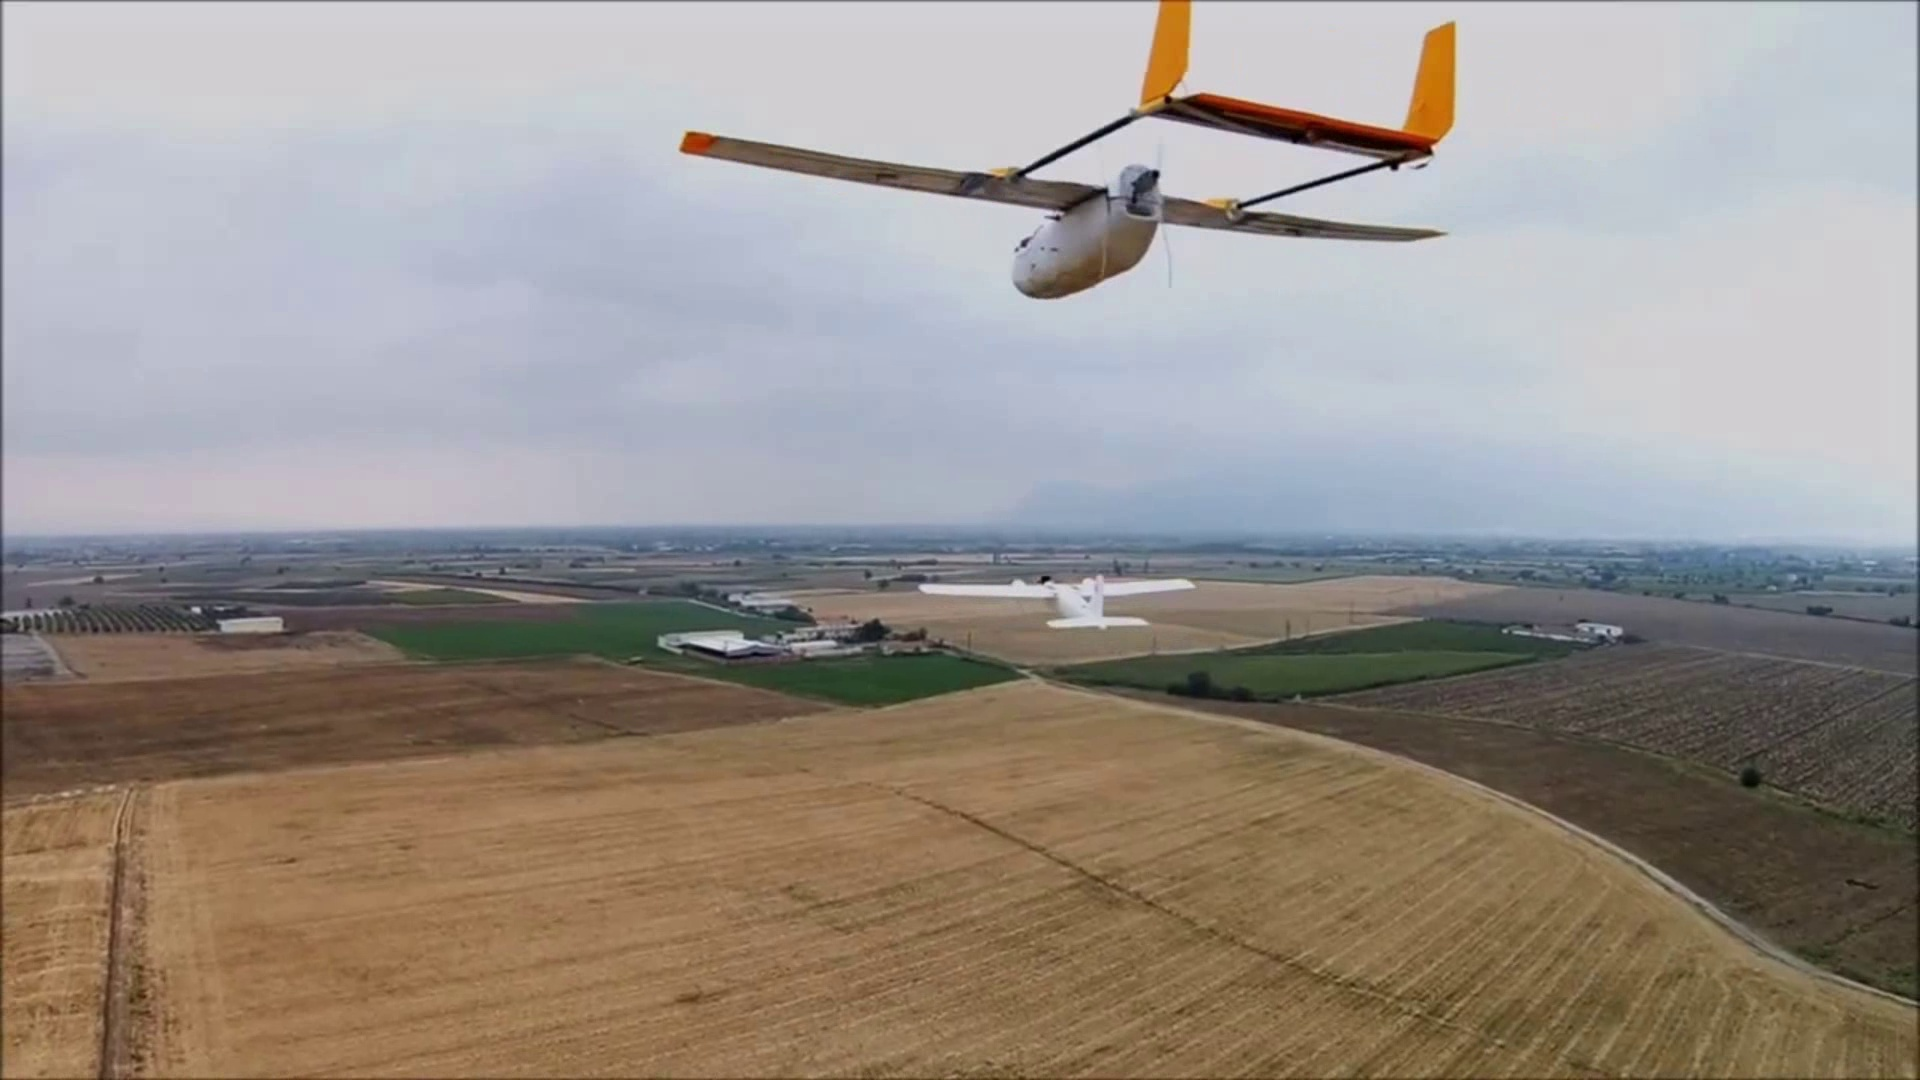airplane: (677, 3, 1461, 302)
